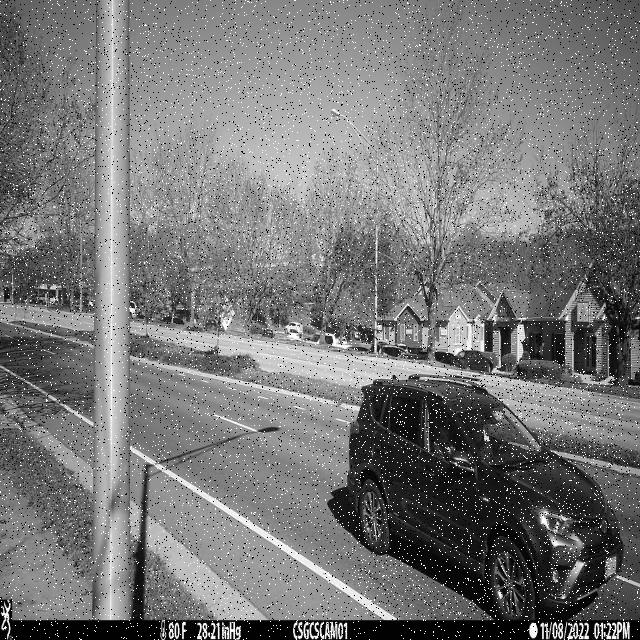SUV: (347, 374, 624, 621)
